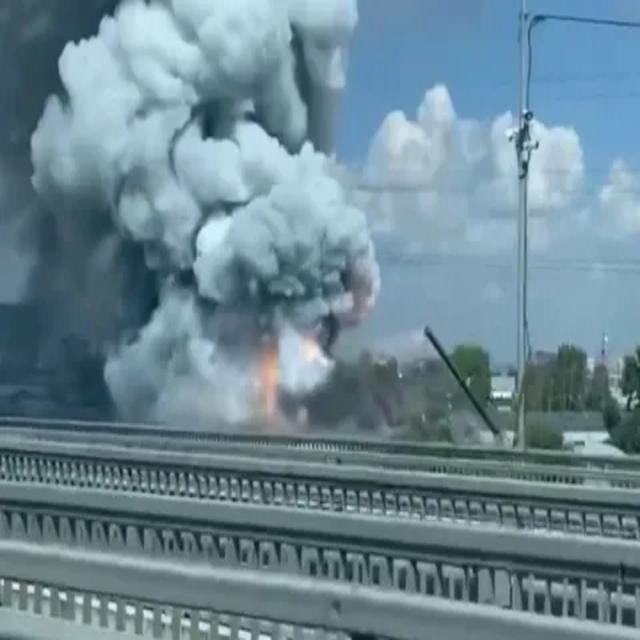Smoke: (0, 0, 380, 428)
